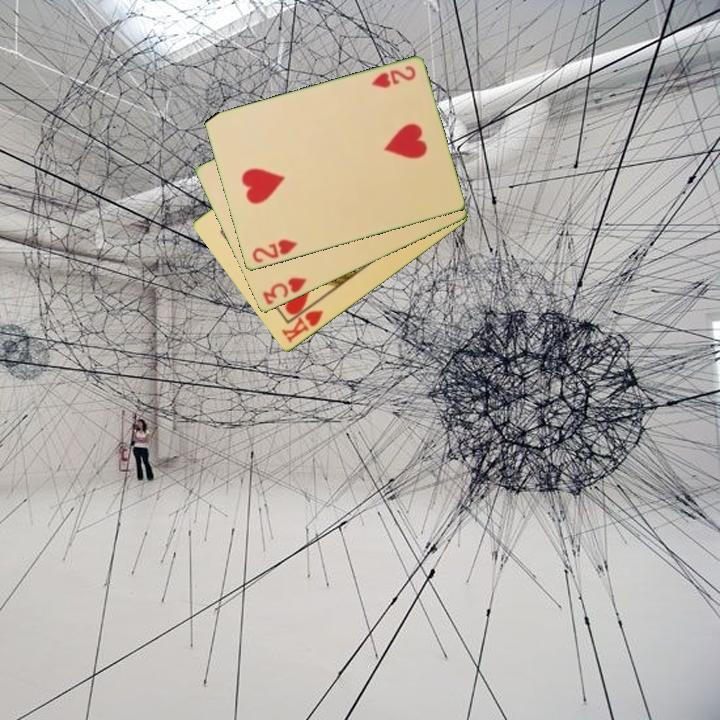2h: (248, 236, 300, 266), (368, 63, 418, 91)
3h: (259, 274, 310, 308)
Kh: (277, 298, 327, 346)
